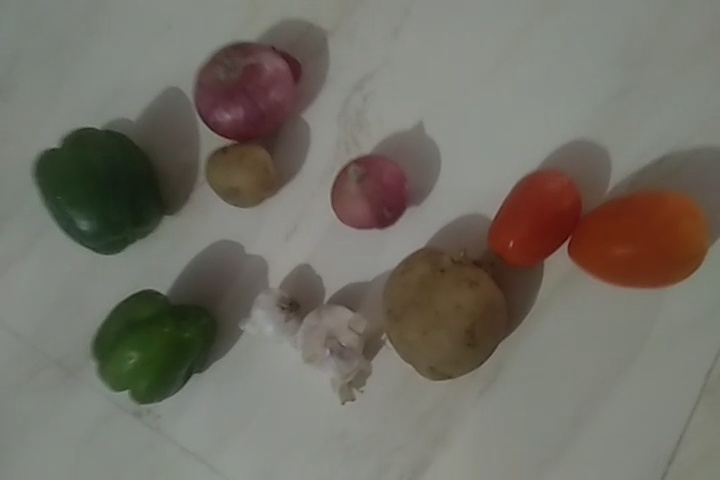capsicum: (33, 124, 160, 245), (93, 287, 213, 406)
garlic: (298, 308, 370, 395), (236, 291, 298, 340)
onion: (188, 44, 295, 144), (335, 152, 401, 228)
potato: (385, 240, 511, 383), (206, 147, 292, 210)
tomato: (571, 197, 710, 289), (503, 165, 575, 276)
